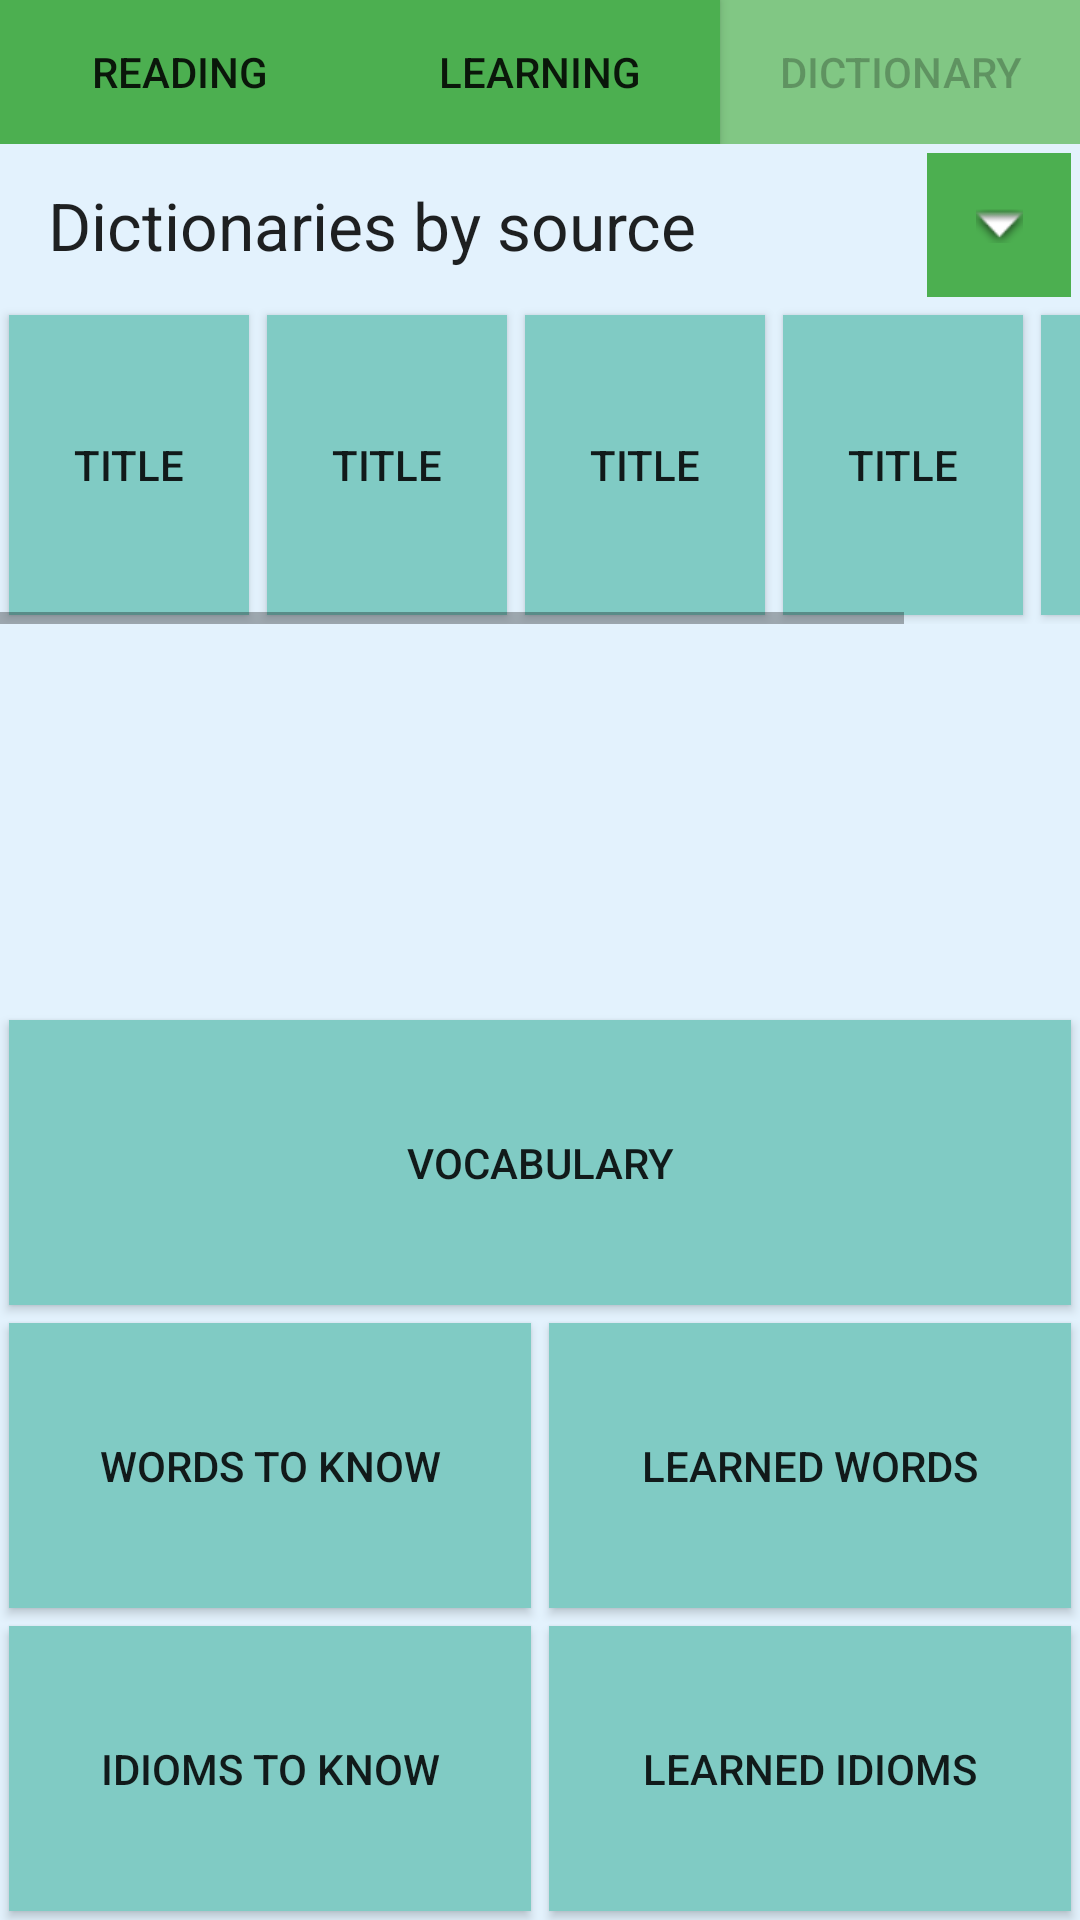

Named icons in this screenshot (1080px x 1920px) and their centers, point (x, y):
arrow down float: point (999, 225)
